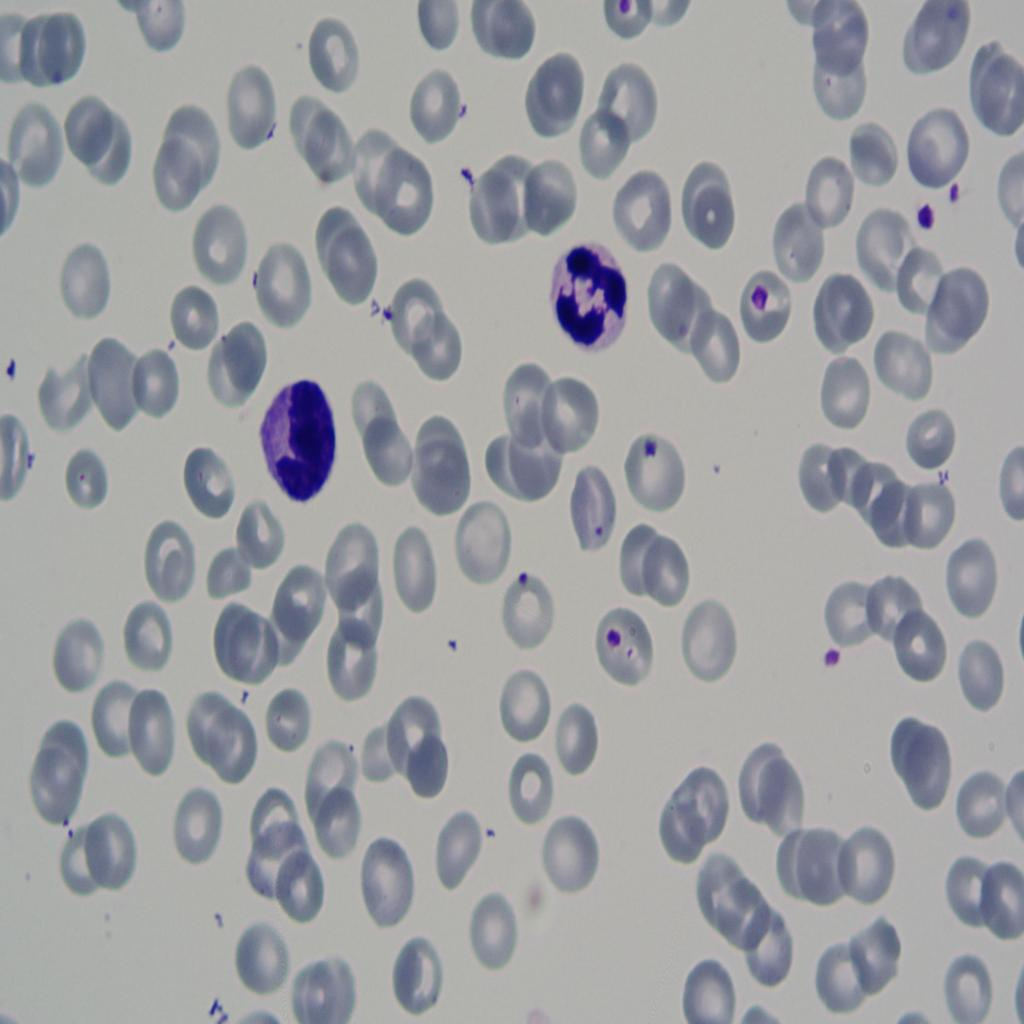Myeoblast: (244, 353, 334, 507)
Neutrofil: (532, 211, 626, 357)
Platelet: (907, 180, 937, 254), (435, 624, 474, 673), (452, 153, 489, 199), (810, 635, 842, 681), (7, 347, 34, 390), (748, 281, 774, 325), (516, 566, 543, 606), (606, 619, 628, 660), (588, 512, 610, 548), (947, 174, 969, 208), (640, 431, 660, 466), (380, 294, 396, 325)
